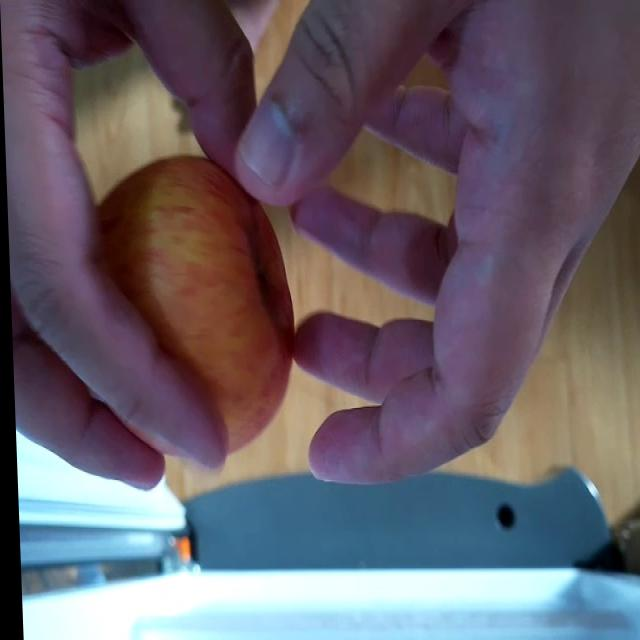apple: (97, 154, 290, 456)
